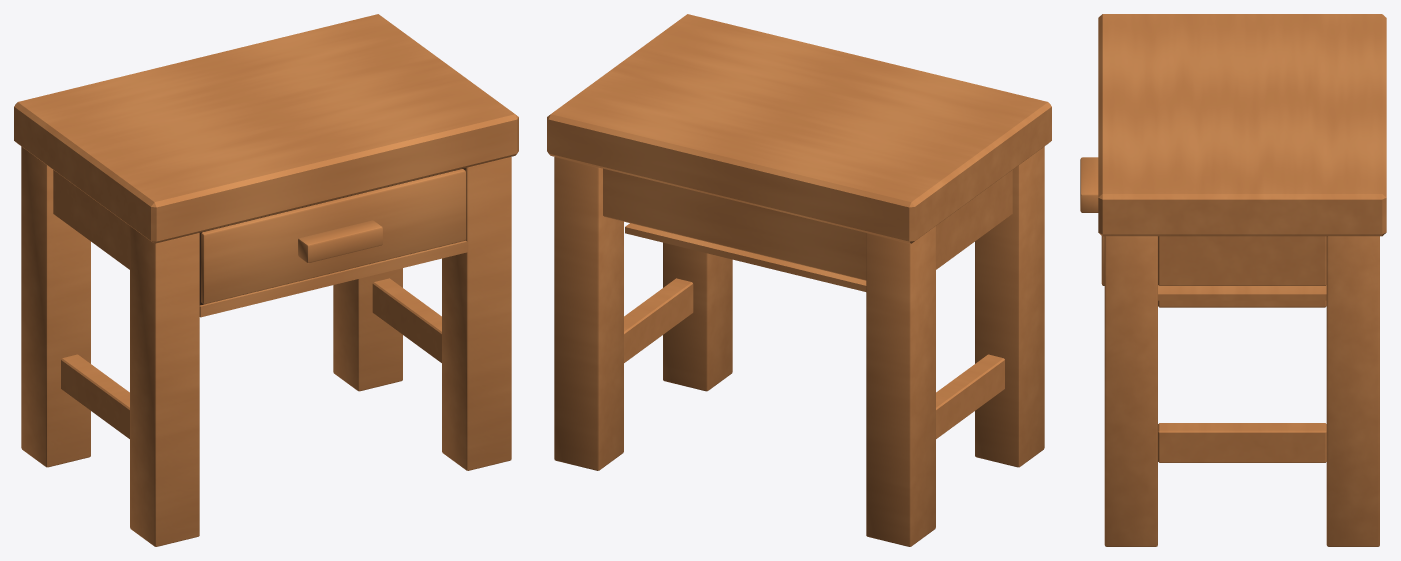
The model's file is nightstand-master.glb.
3 renders of one model, left to right at view 1: azimuth 30°, elevation 25°; view 2: azimuth 150°, elevation 25°; view 3: azimuth 270°, elevation 25°, orthographic. The views are drawn at different scales.
Visible parts, largest first — view 1: Nightstand_Master; view 2: Nightstand_Master; view 3: Nightstand_Master.
Part boxes in pixels (x1,y1,x2,y2): Nightstand_Master: (14, 14, 518, 546); Nightstand_Master: (547, 14, 1051, 546); Nightstand_Master: (1080, 14, 1386, 546).
Bounding box in the file's own units: 0.61 × 0.55 × 0.43.
1 material, 1 textured.
